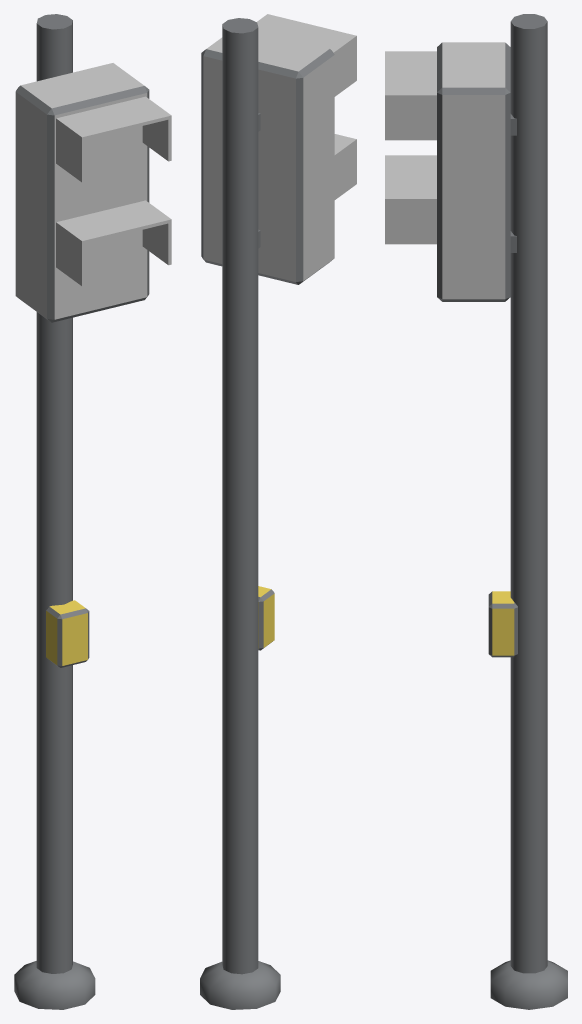
The model's file is traffic_light_ped.glb.
3 views of the same model, side by side, from view 1: azimuth 30°, elevation 25°; view 2: azimuth 150°, elevation 25°; view 3: azimuth 270°, elevation 25° (orthographic).
Parts seen in each view (by area): view 1: traffic_light_ped; view 2: traffic_light_ped; view 3: traffic_light_ped.
Boxes of the visible parts, left/top/right/bottom form: traffic_light_ped: left=14, top=14, right=171, bottom=1009; traffic_light_ped: left=200, top=14, right=356, bottom=1009; traffic_light_ped: left=385, top=14, right=567, bottom=1009.
Bounding box in the file's own units: 0.32 × 2.9 × 0.4946.
